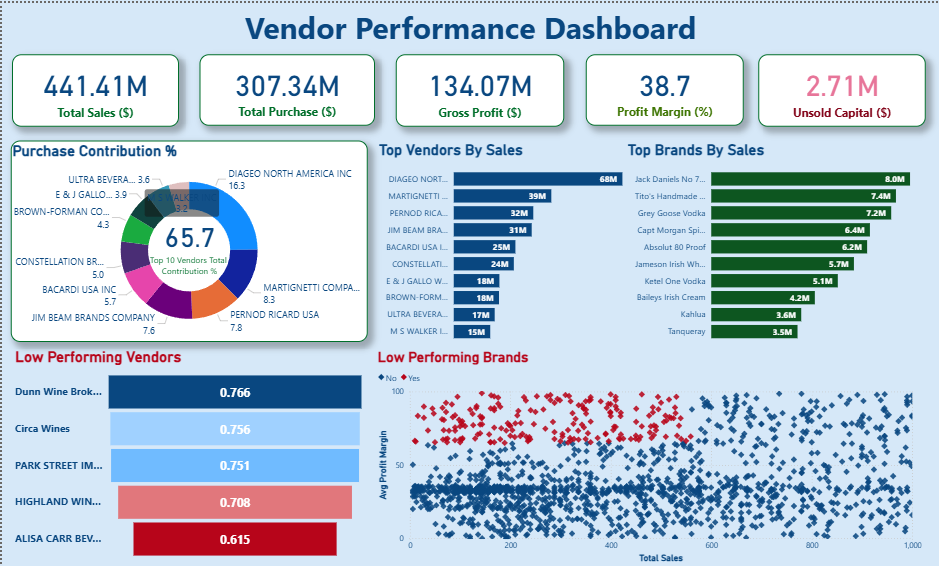

The dashboard page shown, as its layout file describes it:
{"tool":"powerbi","page":{"name":"Page 1","canvas":[1500,900],"ordinal":0},"visuals":[{"type":"card","fields":{"Values":["vendor_sales_summary.TotalPurchaseDollars"]},"box":[315.8,82.4,280.9,114.6],"z":0},{"type":"card","fields":{"Values":["vendor_sales_summary.TotalSalesDollars"]},"box":[16.8,81,266.9,116],"z":1000},{"type":"card","fields":{"Values":["vendor_sales_summary.GrossProfit"]},"box":[630.2,81,269.7,116],"z":2000},{"type":"card","fields":{"Values":["vendor_sales_summary.ProfitMargin"]},"box":[934.8,82.4,252.9,114.6],"z":3000},{"type":"card","fields":{"Values":["vendor_sales_summary.UnsoldCapital"]},"box":[1210.1,81,268.3,116],"z":4000},{"type":"textbox","box":[0,0,1500,83],"z":5000},{"type":"donutChart","title":"Purchase Contribution % ","fields":{"Category":["PurchaseContribution.VendorName"],"Y":["PurchaseContribution.PurchaseContribution%"]},"box":[14.5,219.4,571,322.6],"z":6000},{"type":"card","fields":{"Values":["PurchaseContribution.PurchaseContribution%"]},"box":[215.7,270,168.6,218.6],"z":7000},{"type":"barChart","title":"Top Vendors By Sales","fields":{"Category":["vendor_sales_summary.VendorName"],"Y":["vendor_sales_summary.TotalSalesDollars"]},"box":[597.3,219.2,447.9,332.9],"z":8000},{"type":"barChart","title":"Top Brands By Sales","fields":{"Category":["vendor_sales_summary.Description"],"Y":["vendor_sales_summary.TotalSalesDollars"]},"box":[995.9,219.2,504.1,332.9],"z":9000},{"type":"funnel","title":"Low Performing Vendors","fields":{"Category":["LowTurnoverVendor.VendorName"],"Y":["LowTurnoverVendor.AvgStockTurnOver"]},"box":[16.1,551.6,569.4,348.4],"z":10000},{"type":"scatterChart","title":"Low Performing Brands","fields":{"X":["BrandPerformance.TotalSales"],"Y":["BrandPerformance.AvgProfitMargin"],"Series":["BrandPerformance.TargetBrand"],"Category":["BrandPerformance.Description"]},"box":[596.8,551.6,880.6,348.4],"z":11000}]}

Visuals, with their boxes in screenshot pixels (x1, y1, x2, y2), scaled from the page's 1500x900 canvas onto the 939x566 screenshot:
card - vendor_sales_summary.TotalPurchaseDollars: (x1=198, y1=52, x2=374, y2=124)
card - vendor_sales_summary.TotalSalesDollars: (x1=11, y1=51, x2=178, y2=124)
card - vendor_sales_summary.GrossProfit: (x1=395, y1=51, x2=563, y2=124)
card - vendor_sales_summary.ProfitMargin: (x1=585, y1=52, x2=744, y2=124)
card - vendor_sales_summary.UnsoldCapital: (x1=758, y1=51, x2=925, y2=124)
textbox: (x1=0, y1=0, x2=938, y2=52)
"Purchase Contribution % " donutChart: (x1=9, y1=138, x2=367, y2=341)
card - PurchaseContribution.PurchaseContribution%: (x1=135, y1=170, x2=241, y2=307)
"Top Vendors By Sales" barChart: (x1=374, y1=138, x2=654, y2=347)
"Top Brands By Sales" barChart: (x1=623, y1=138, x2=938, y2=347)
"Low Performing Vendors" funnel: (x1=10, y1=347, x2=367, y2=565)
"Low Performing Brands" scatterChart: (x1=374, y1=347, x2=925, y2=565)
